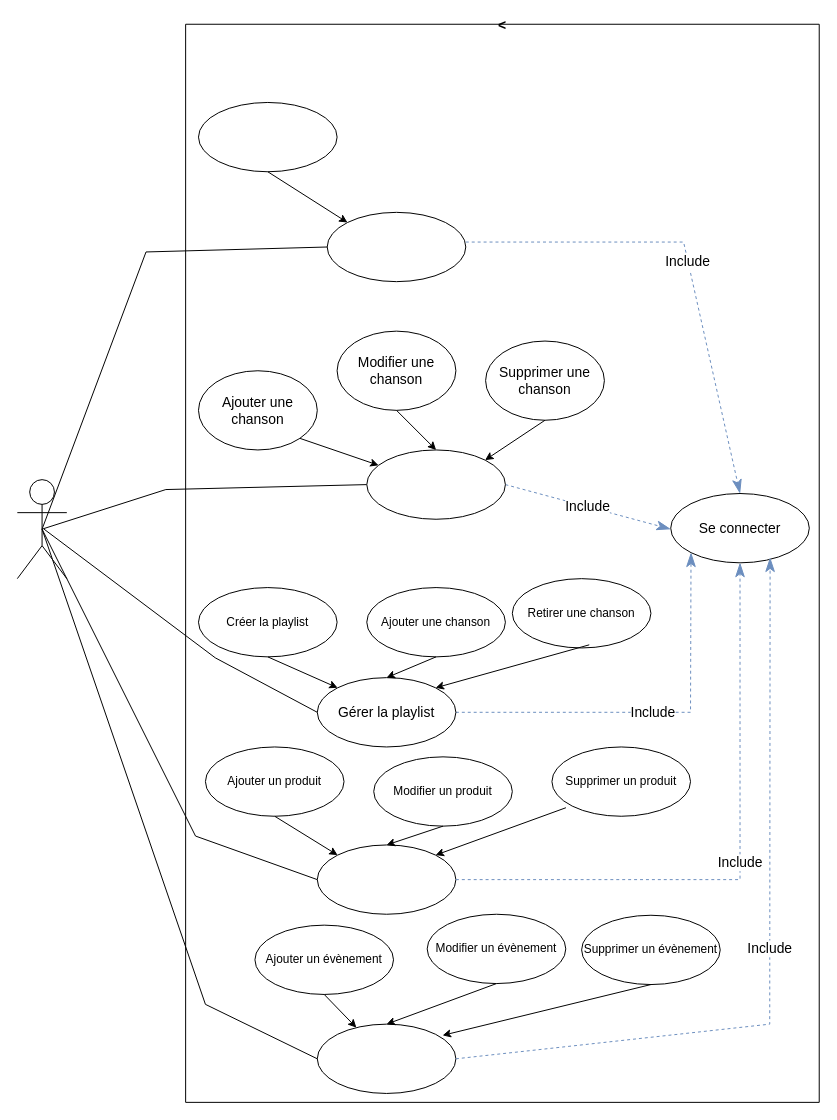
The diagram is 837 pixels wide and 1120 high, and some of its shapes have lost their labels. The shapes that lost their labels are listed below. From the top down, each one's centre as x and y in pixels, then its label:
At point (267, 136): "Modifier la bio".
At point (396, 246): "Gestion du profil".
At point (435, 484): "Gérer le catalogue".
At point (41, 529): "Artiste".
At point (386, 879): "gérer les produits".
At point (386, 1058): "Gérer les évènement".
